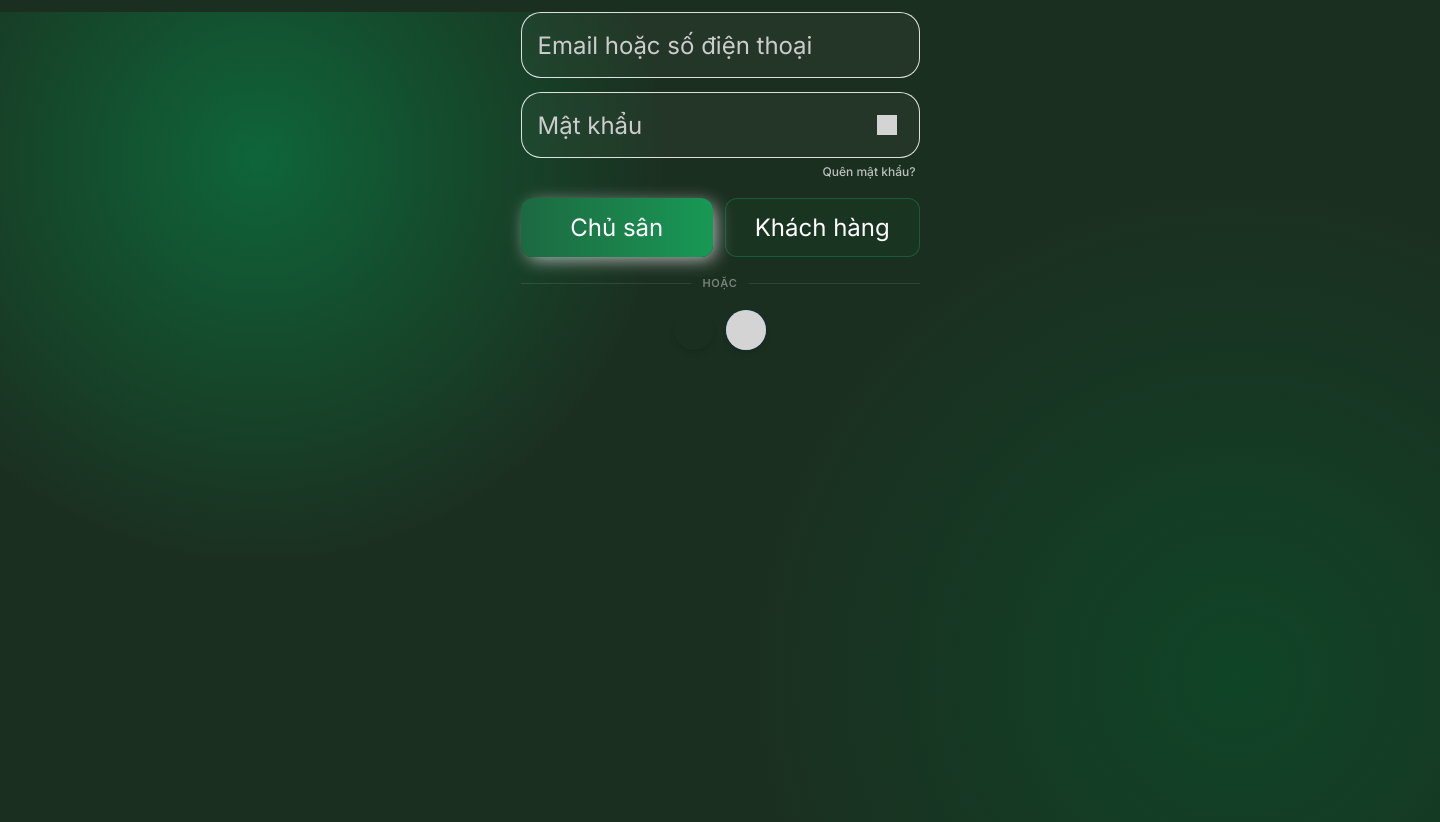
Test: LoginForm › shows validation errors when submitting empty form
Click the button "Chủ sân" at (617, 228), box top-left (520, 198), bottom-right (713, 257)
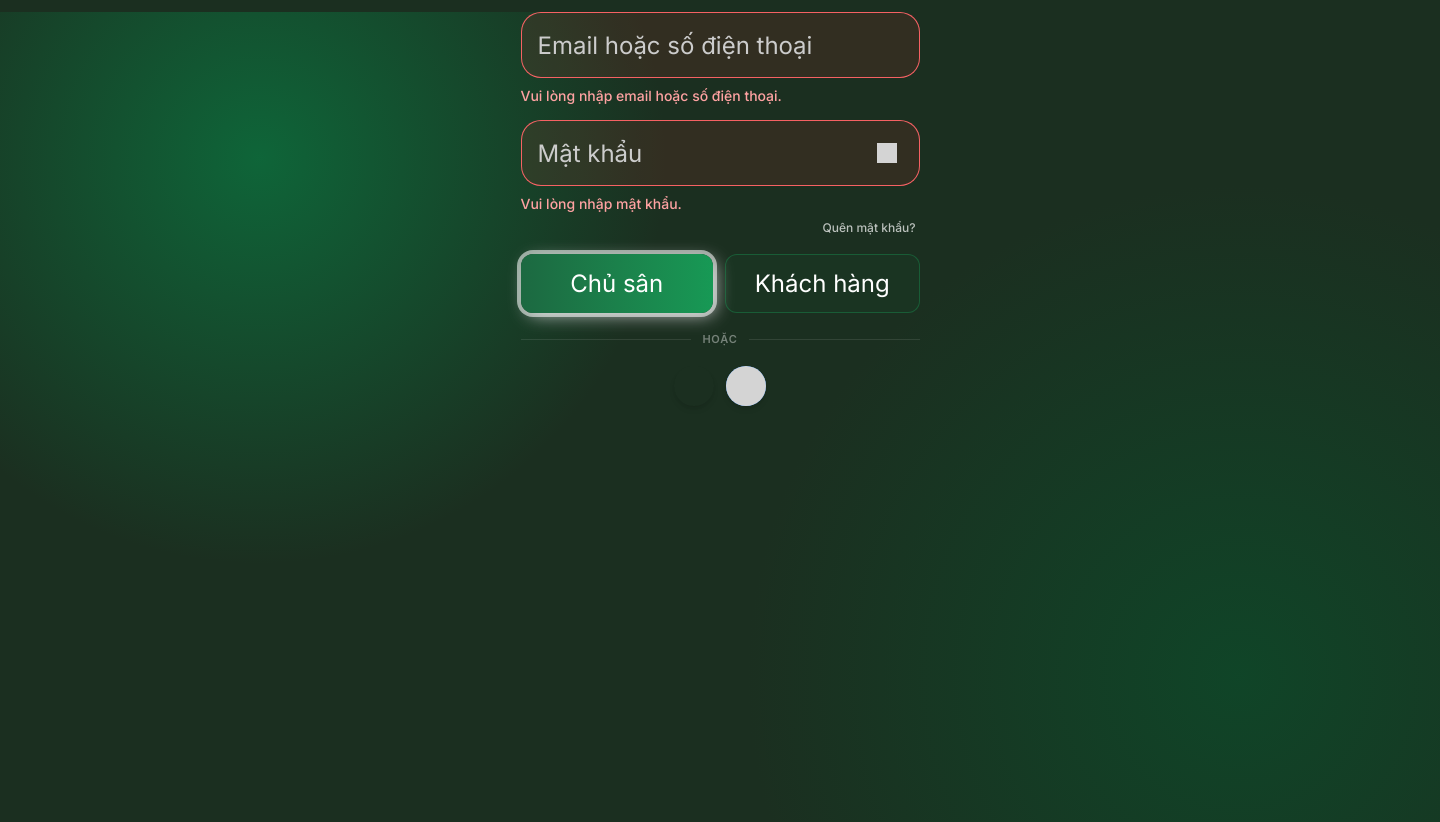
expect the text "Vui lòng nhập email hoặc số điện thoại." is shown: met, box top-left (520, 87), bottom-right (782, 104)
expect the text "Vui lòng nhập mật khẩu." is shown: met, box top-left (520, 195), bottom-right (682, 212)
